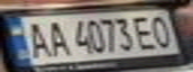0: (90, 16, 112, 54), (84, 16, 103, 54)
3: (115, 15, 136, 52)
4: (69, 17, 90, 55)
A: (18, 19, 54, 60), (42, 18, 72, 57)
E: (130, 13, 160, 51)
O: (145, 12, 178, 48)
